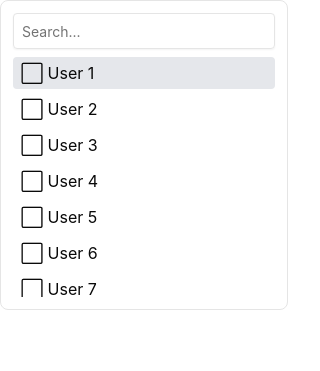
Scenario: MultiSelect › clicks to select and deselect
// Find and click User 1 to select
Click the option "⬜ User 1".
click(71, 73)  # box [13,57,275,89]
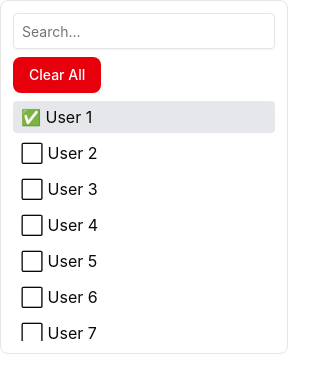
Now the text "✅ User 1" is shown, box [21,105,92,129]
// Click again to deselect
Click the option "✅ User 1".
click(69, 117)  # box [13,101,275,133]
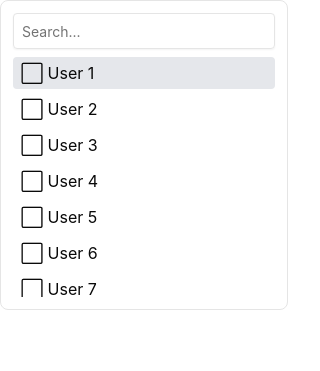
Now the text "⬜ User 1" is shown, box [21,61,94,85]
